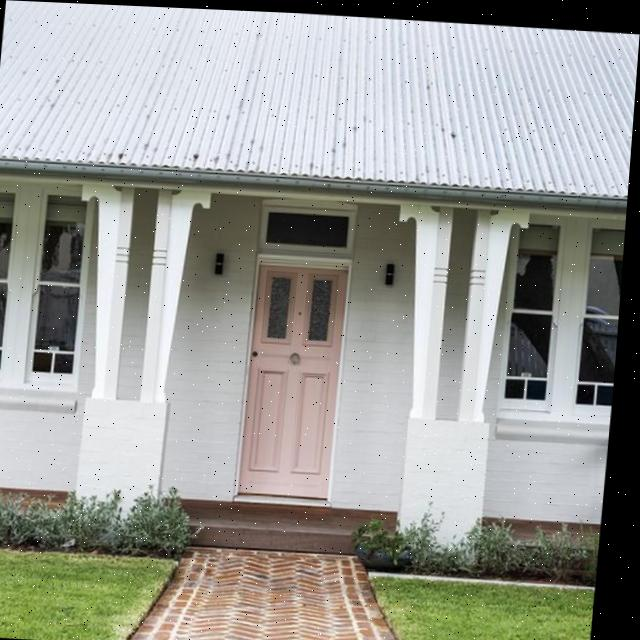building: (0, 0, 640, 567)
